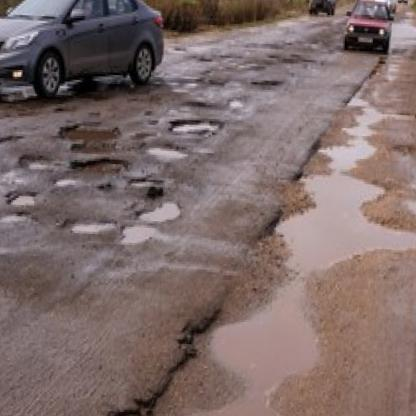pothole: (59, 120, 121, 146), (134, 195, 184, 227), (70, 153, 130, 179), (61, 214, 118, 240), (170, 115, 225, 138), (117, 220, 158, 247), (140, 143, 192, 162), (18, 150, 55, 175), (4, 186, 40, 211), (0, 207, 33, 227), (128, 174, 166, 187), (252, 76, 284, 91), (0, 133, 21, 143), (96, 182, 113, 194)
